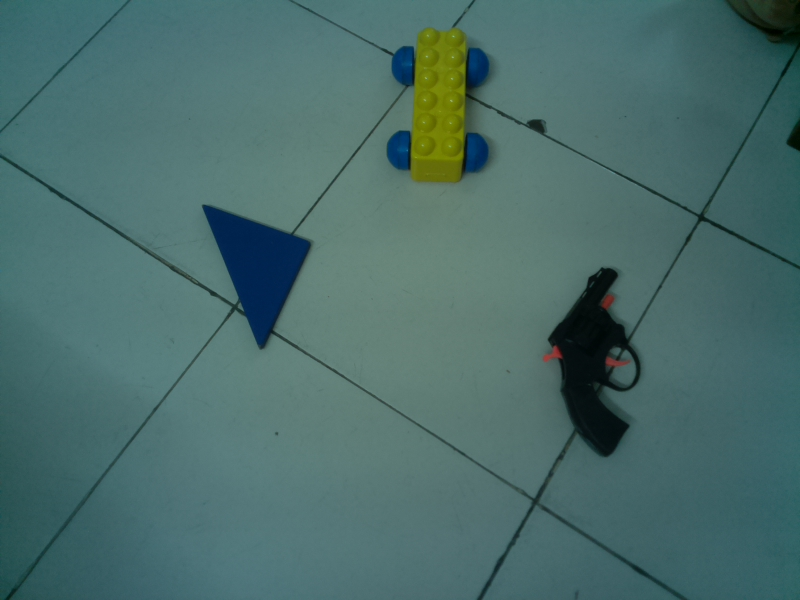Gun: (542, 265, 644, 460)
Triangle: (201, 201, 315, 354)
toy_Car: (388, 25, 493, 188)
